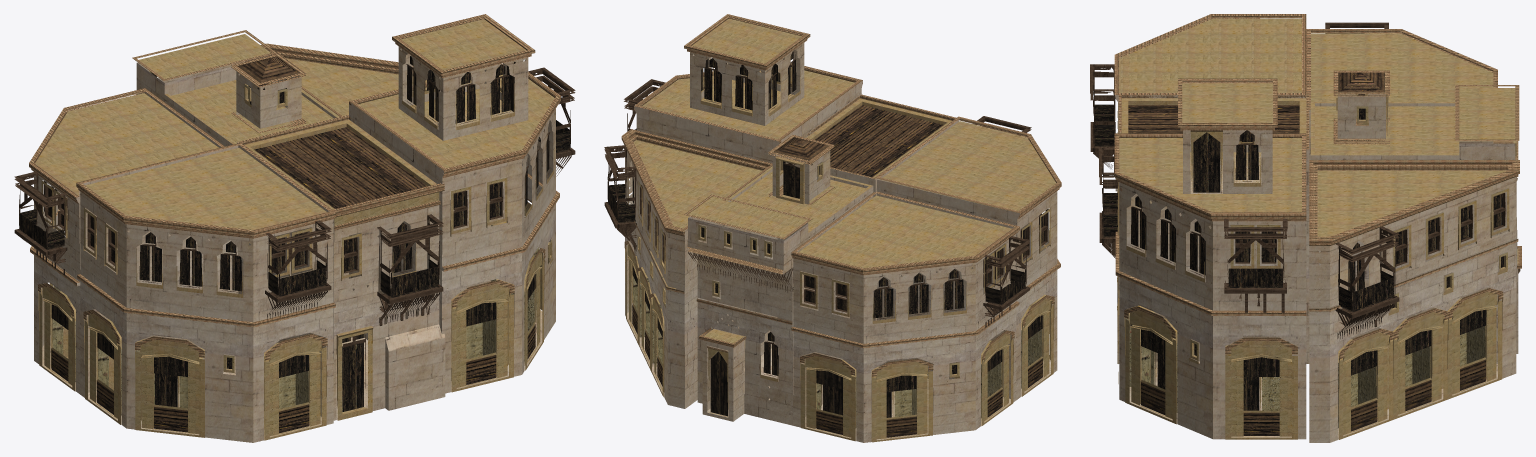
Rendered from arab_house_a.gltf.
3 renders of one model, left to right at view 1: azimuth 30°, elevation 25°; view 2: azimuth 150°, elevation 25°; view 3: azimuth 270°, elevation 25°, orthographic. The views are drawn at different scales.
Visible parts, largest first — view 1: BLOCK_I1_1_MarbleTiles0040_1_S_1__0; view 2: BLOCK_I1_1_MarbleTiles0040_1_S_1__0; view 3: BLOCK_I1_1_MarbleTiles0040_1_S_1__0.
Part boxes in pixels (x1,y1,x2,y2): BLOCK_I1_1_MarbleTiles0040_1_S_1__0: (14,14,575,442); BLOCK_I1_1_MarbleTiles0040_1_S_1__0: (604,14,1061,442); BLOCK_I1_1_MarbleTiles0040_1_S_1__0: (1090,14,1521,442).
Bounding box in the file's own units: 15.28 × 9 × 11.81.
Materials: 7 (7 with a texture image).
